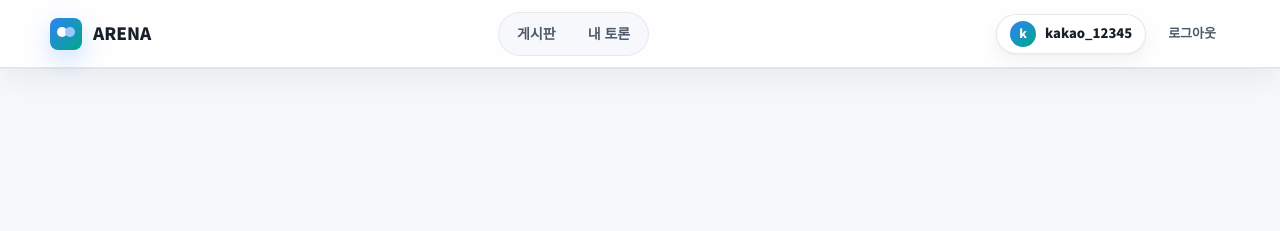
Test: AppNav › saves a changed nickname and closes the editor
Click the button "k kakao_12345" at (1071,34), box [996,14,1146,54]
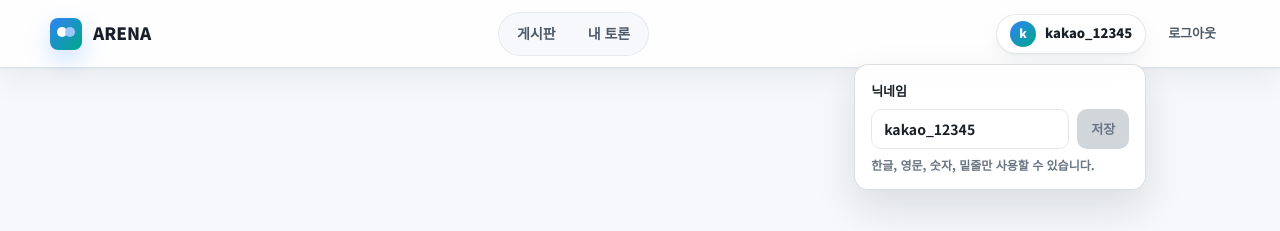
Replace the text in the field with id "nickname-input" with "새닉네임" at (970,129), box [871,109,1069,149]
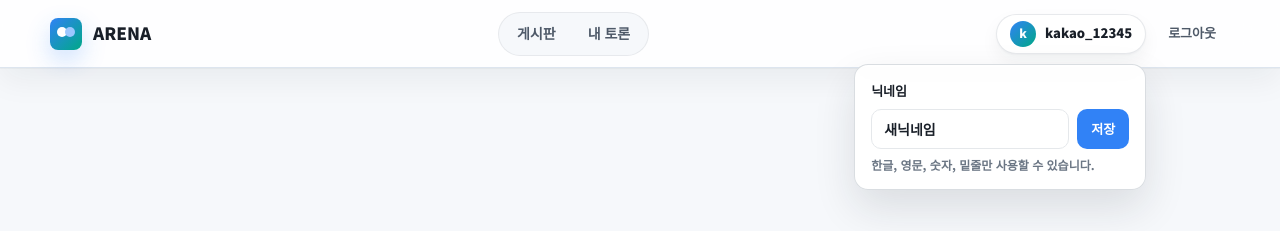
Submit the form with id "nickname-editor", box [854,64,1146,190]
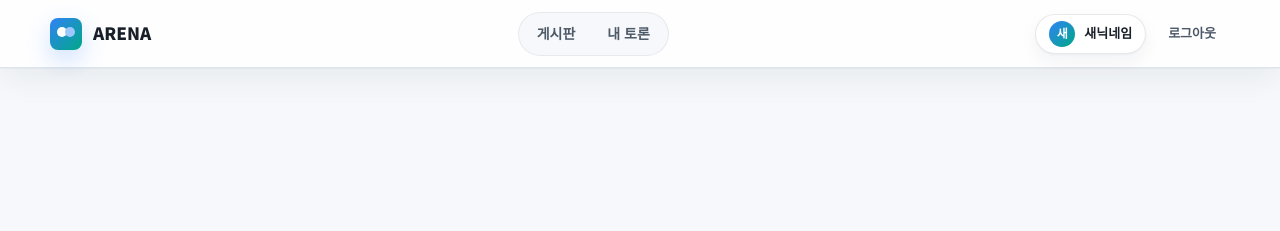
expect the text "새닉네임" is shown: met, box [1084,23,1132,44]
expect the button "새 새닉네임" is shown: met, box [1035,14,1146,54]
